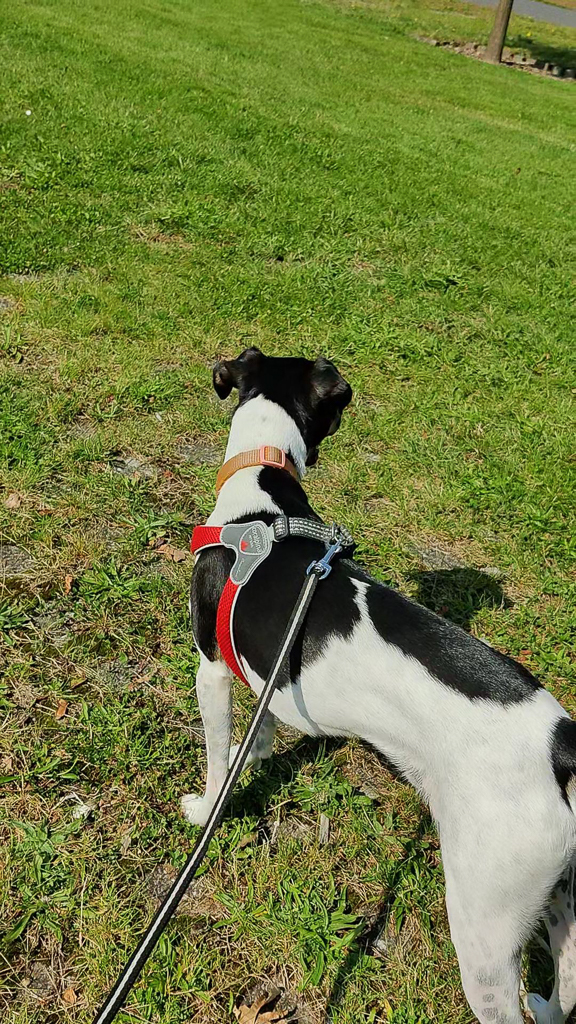Dog: (168, 317, 576, 1024)
